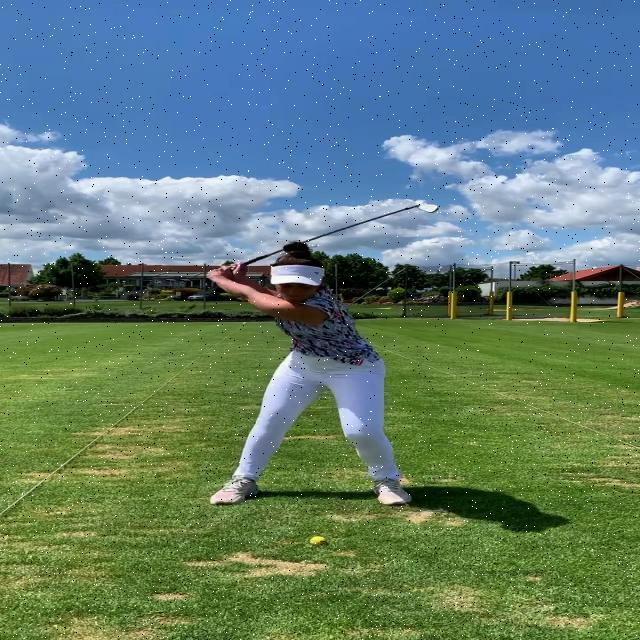golf ball: (310, 536, 325, 545)
golf club-handle: (241, 204, 439, 266)
golf club-head: (416, 204, 439, 213)
